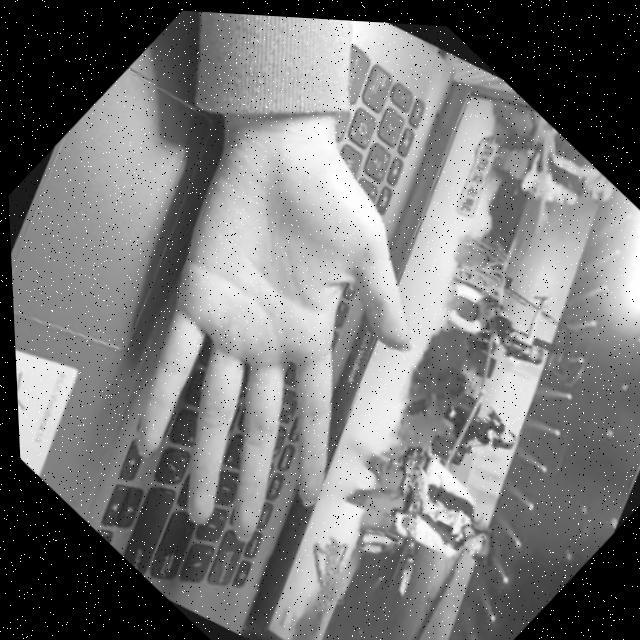no-gloves: (1, 28, 541, 589)
